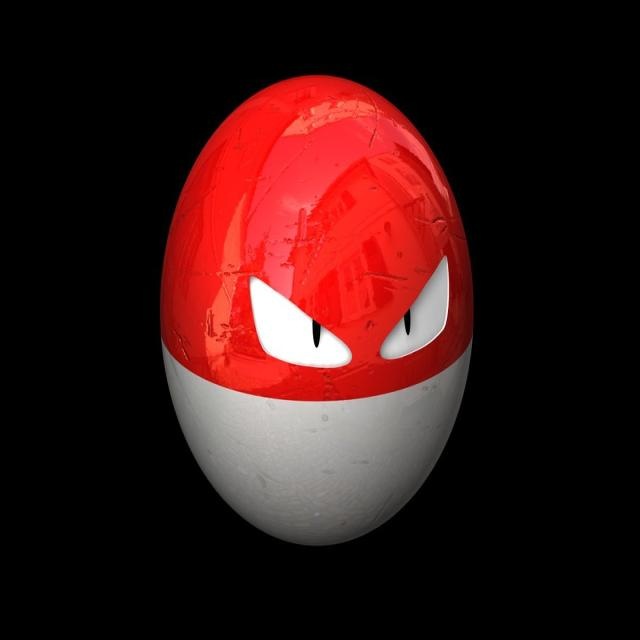Voltorb: (147, 72, 532, 602)
